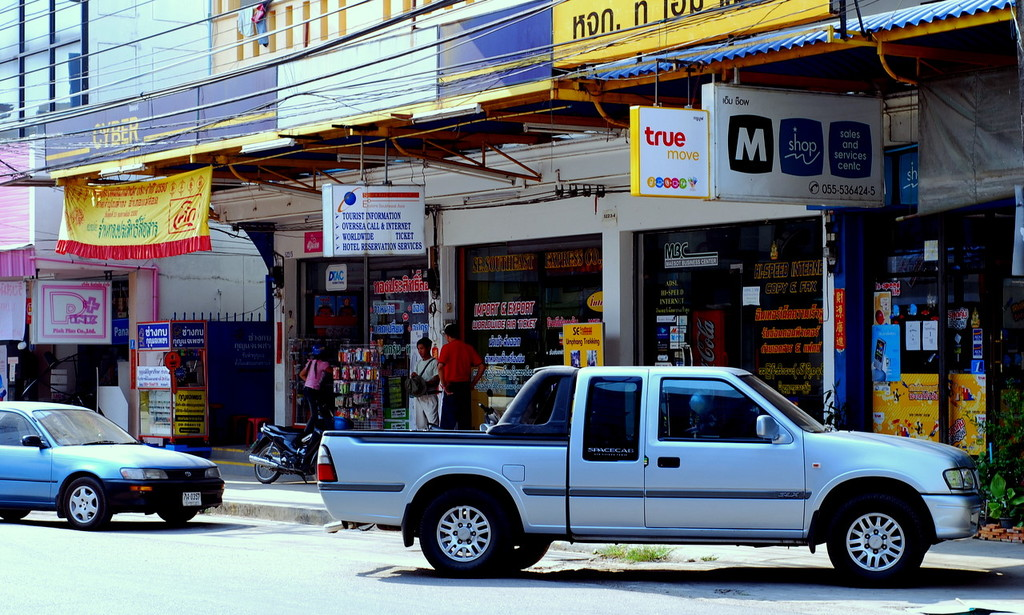Car: (0, 398, 224, 530)
